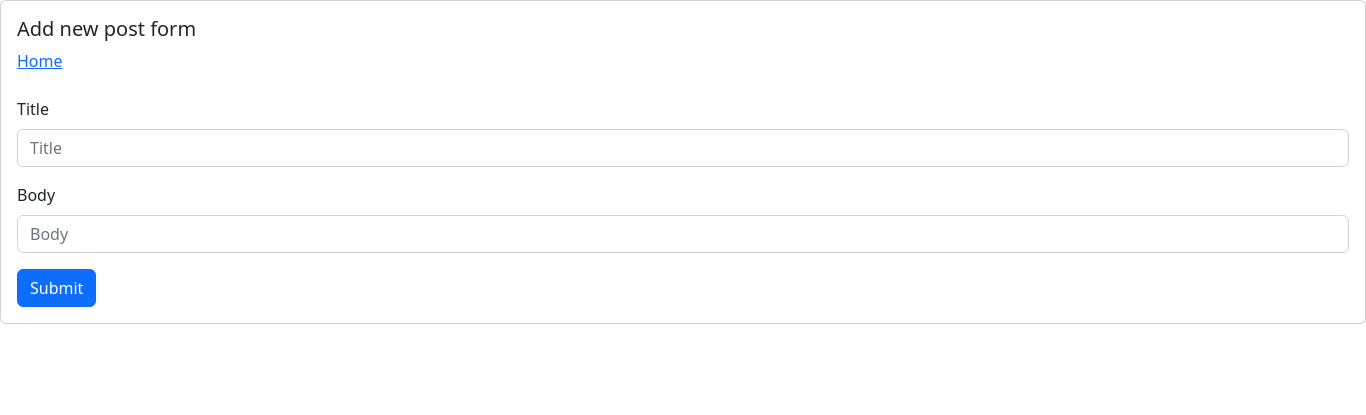
ADDPOST component › ✅ Fill form & click on submit button element
In the field with placeholder "Title": (683, 148) [17, 129, 1349, 167], type "Testing title"
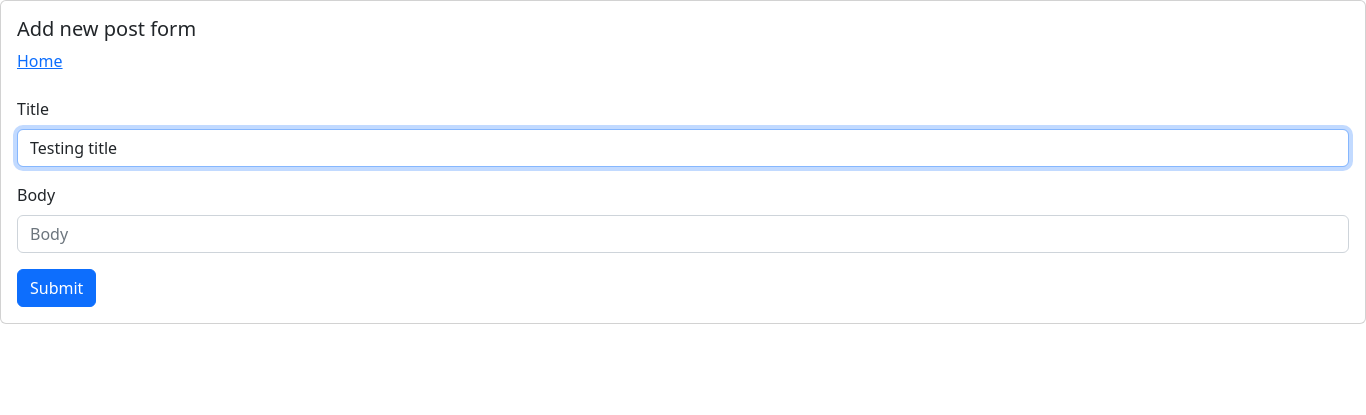
In the field with placeholder "Body": (683, 234) [17, 215, 1349, 253], type "Testing body"
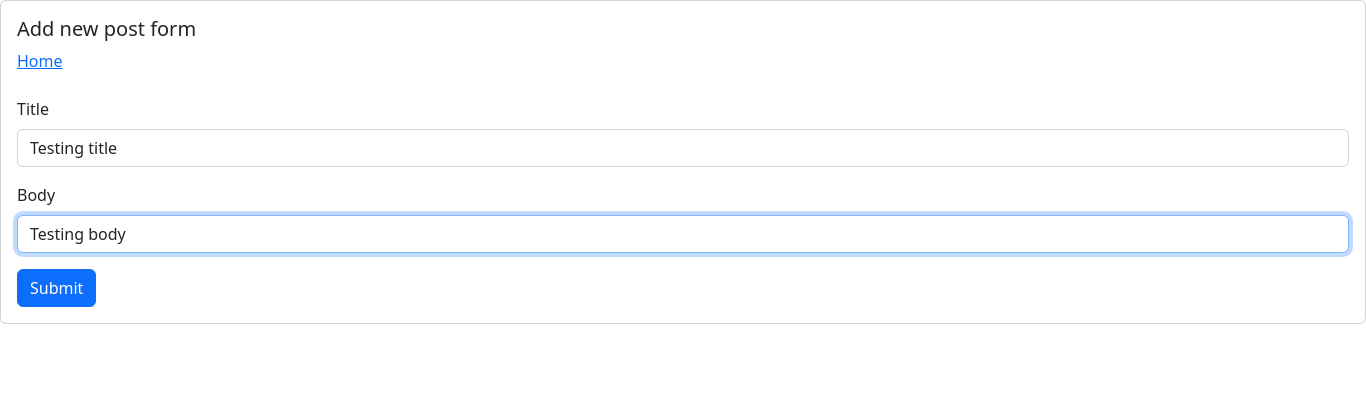
Click the button "Submit": (57, 288) [17, 269, 96, 307]
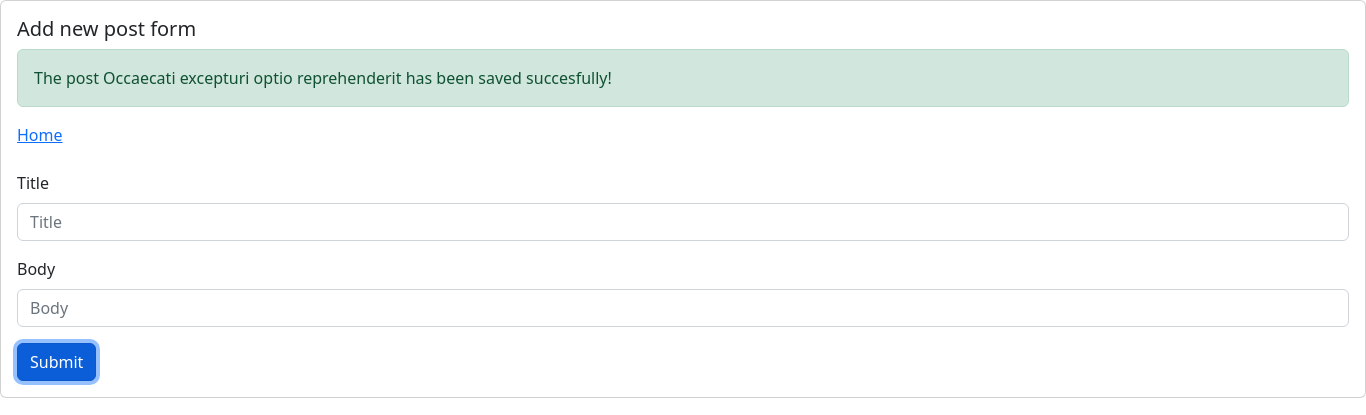
Expected: the text "The post Occaecati excepturi optio reprehenderit has been saved succesfully!" is shown, [17, 49, 1349, 107]
Expected: the field with placeholder "Title" is empty, [17, 203, 1349, 241]
Expected: the field with placeholder "Body" is empty, [17, 289, 1349, 327]
